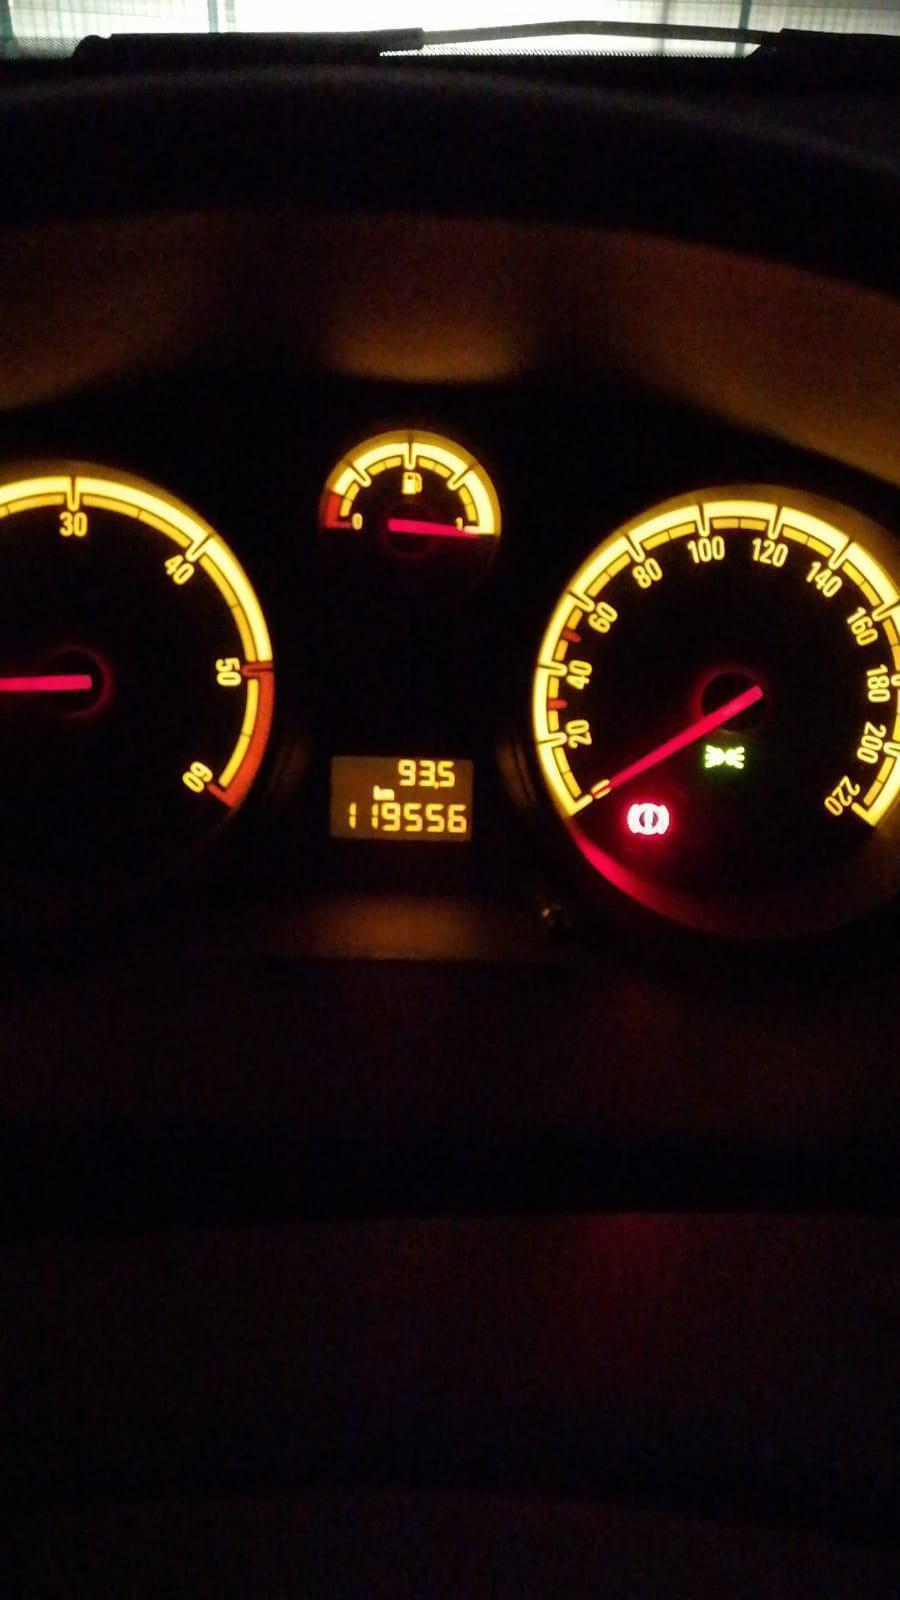,: (433, 781, 438, 790)
1: (347, 800, 358, 830), (370, 802, 379, 831)
3: (416, 759, 435, 787)
5: (402, 801, 423, 833), (424, 802, 445, 833), (437, 760, 456, 788)
6: (446, 803, 467, 833)
9: (380, 802, 401, 832), (397, 758, 416, 786)
X: (373, 784, 384, 800), (384, 787, 395, 801)
odometer: (327, 753, 476, 845)
